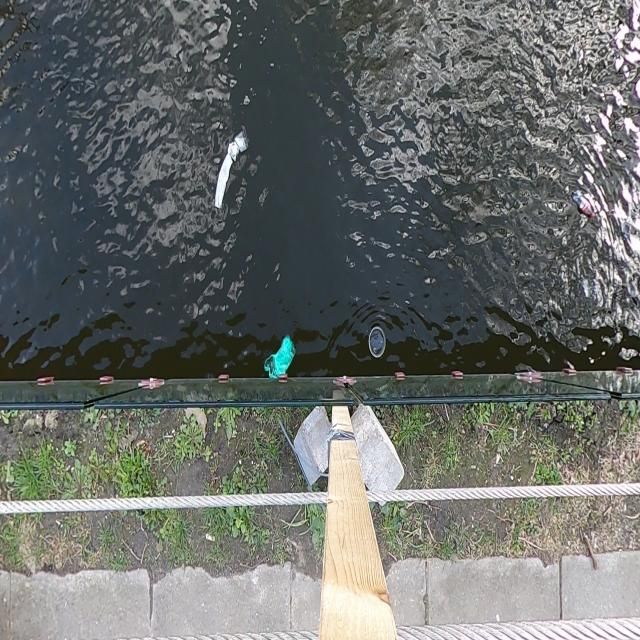Bouteille plastique: (365, 320, 390, 366)
Sac plastique: (211, 126, 251, 214), (263, 331, 298, 376)
